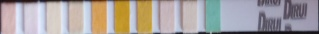color 1: (2, 4, 14, 33)
color 10: (207, 1, 218, 29)
color 2: (25, 4, 36, 32)
color 3: (48, 3, 60, 32)
color 4: (70, 3, 82, 31)
color 5: (93, 3, 105, 32)
color 6: (115, 2, 128, 32)
color 7: (138, 2, 150, 31)
color 8: (161, 2, 173, 31)
color 9: (184, 2, 196, 31)
